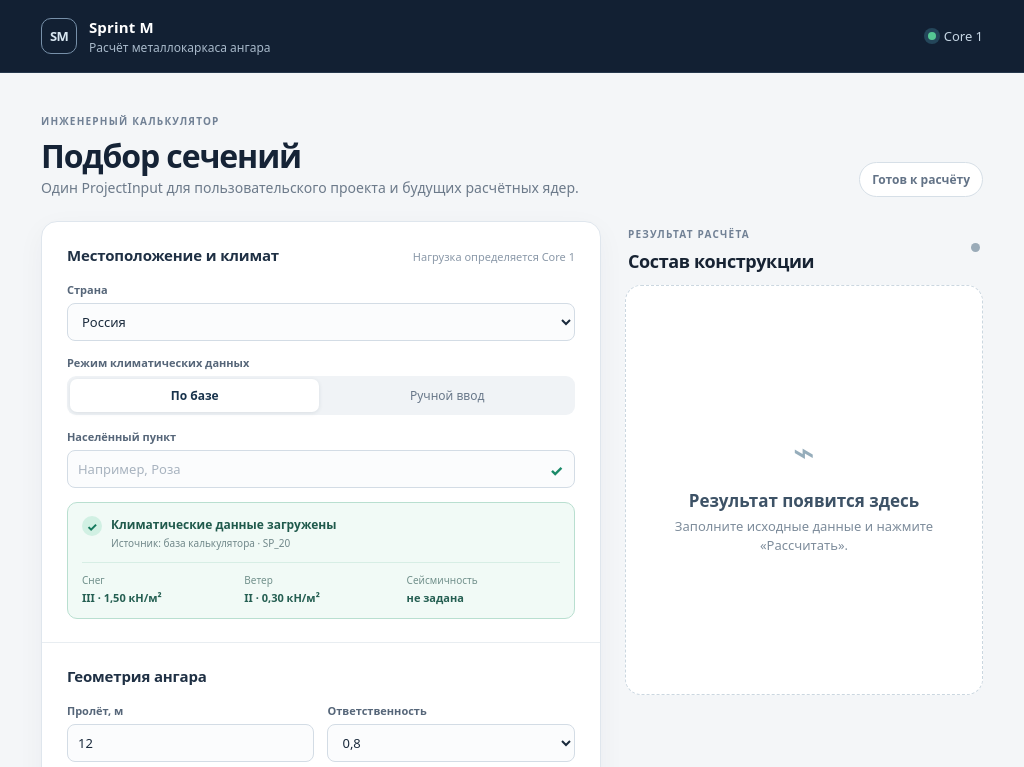
Sprint M calculator UI › clears the selected climate when the city query is edited and offers manual input for an unknown city
The image size is (1024, 767).
Expected: the text "Климатические данные загружены" is shown, [111,516,336,533]
Type "Неизвестный город" into the dropdown labelled "Населённый пункт" at coordinates (321, 469), box [67,450,575,488]
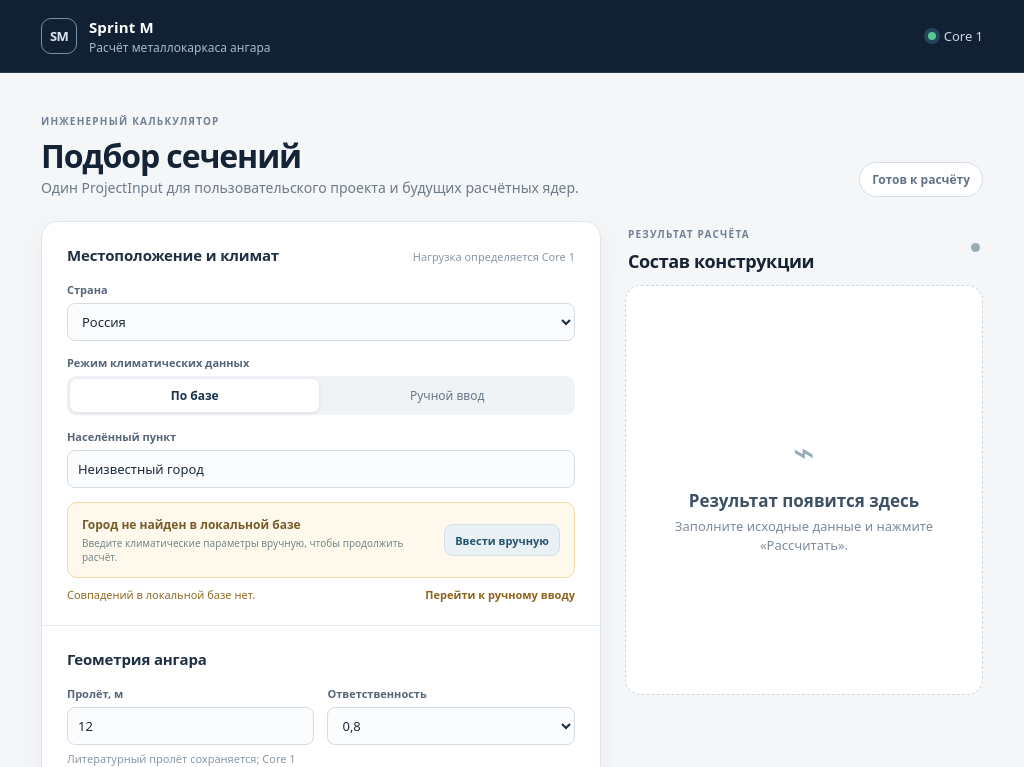
Now the text "Климатические данные загружены" is gone
Now the text "Город не найден в локальной базе" is shown, box [82,516,301,533]
Click the button "Перейти к ручному вводу" at coordinates (500, 595), box [425,587,575,602]
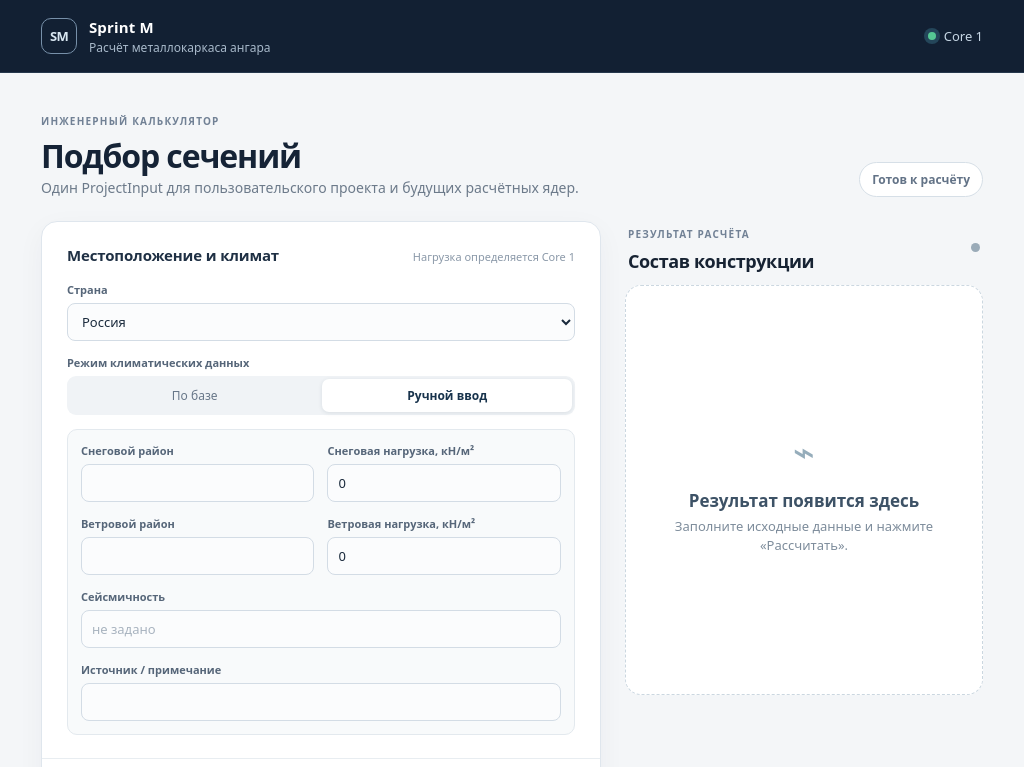
Now the number field labelled "Снеговая нагрузка, кН/м²" is shown, box [328,464,561,502]
